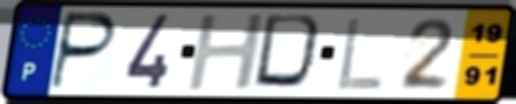2: (399, 16, 457, 92)
4: (123, 12, 172, 92)
D: (250, 12, 330, 93)
H: (184, 11, 269, 93)
L: (334, 14, 387, 92)
P: (46, 9, 121, 92)
